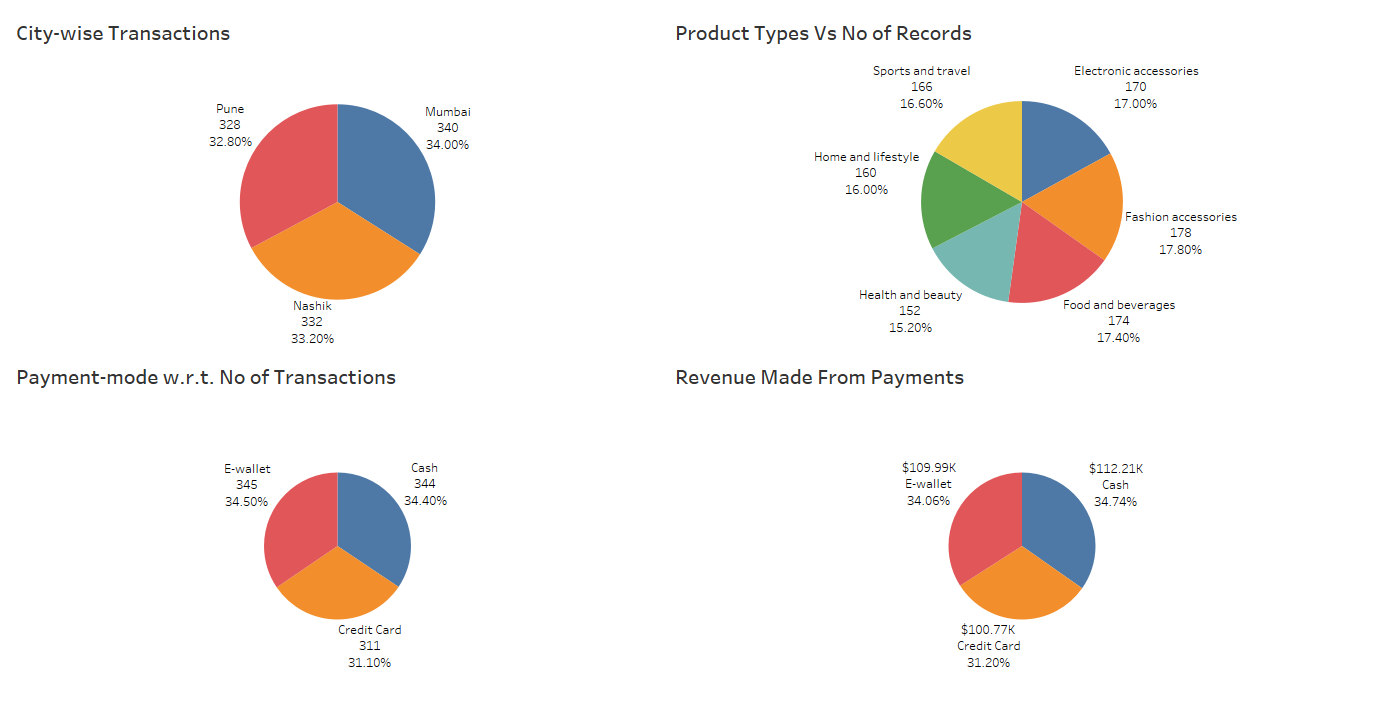

Layout of this report page (visuals, bound fields, positions):
{"tool":"tableau","page":{"name":"Dashboard 1","canvas":[1385,705],"ordinal":0},"visuals":[{"type":"worksheet","title":"City-wise Transactions","mark":"Pie","box":[8,8,659,344.5]},{"type":"worksheet","title":"Product Types Vs No of Records","mark":"Pie","box":[667,8,710,344.5]},{"type":"worksheet","title":"Payment-mode w.r.t. No of Transactions","mark":"Pie","box":[8,352.5,659,344.5]},{"type":"worksheet","title":"Revenue Made From Payments","mark":"Pie","box":[667,352.5,710,344.5]}]}

Visuals, with their boxes in screenshot pixels (x1, y1, x2, y2), scaled from the page's 1385x705 canvas onto the 1385x705 screenshot:
"City-wise Transactions" worksheet (Pie marks): 8,8,667,352
"Product Types Vs No of Records" worksheet (Pie marks): 667,8,1377,352
"Payment-mode w.r.t. No of Transactions" worksheet (Pie marks): 8,352,667,697
"Revenue Made From Payments" worksheet (Pie marks): 667,352,1377,697
